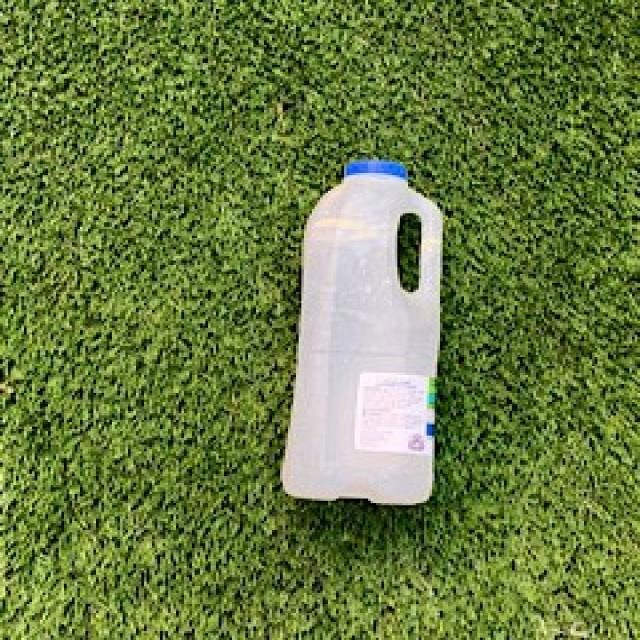HDPE Plastic: (277, 157, 447, 509)
